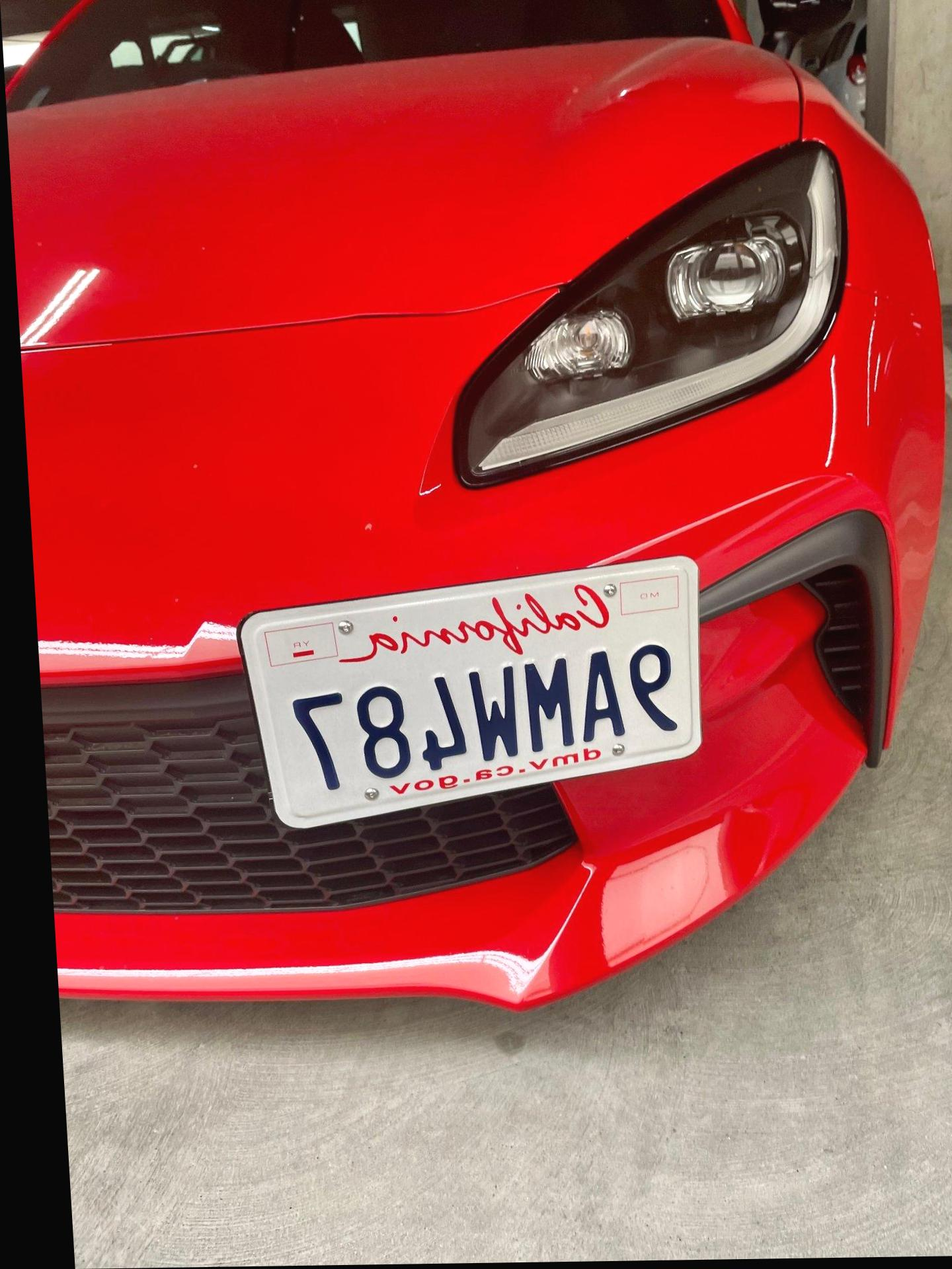License_Plate: (235, 550, 712, 841)
